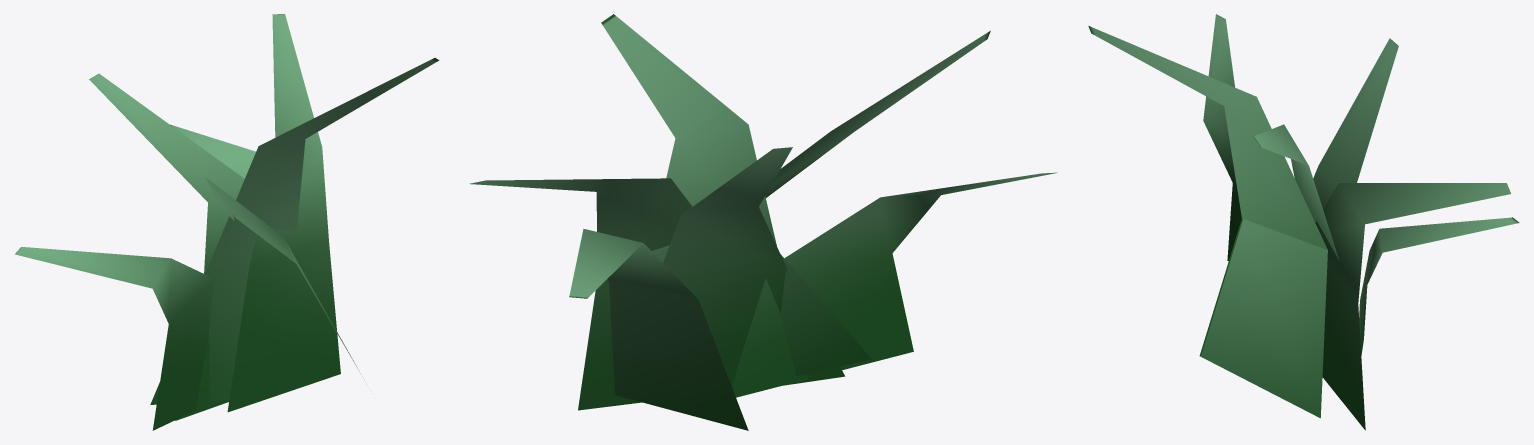
Rendered from grass.fbx.
3 views of the same model, side by side, from view 1: azimuth 30°, elevation 25°; view 2: azimuth 150°, elevation 25°; view 3: azimuth 270°, elevation 25° (orthographic). The views are drawn at different scales.
Parts seen in each view (by area): view 1: Grass.302; view 2: Grass.302; view 3: Grass.302.
Part boxes in pixels (x1,y1,x2,y2): Grass.302: (15, 14, 439, 430); Grass.302: (469, 14, 1057, 430); Grass.302: (1088, 14, 1519, 430).
Size of the model in its own units: 143 by 108 by 138.
Materials: 1 (1 with a texture image).
